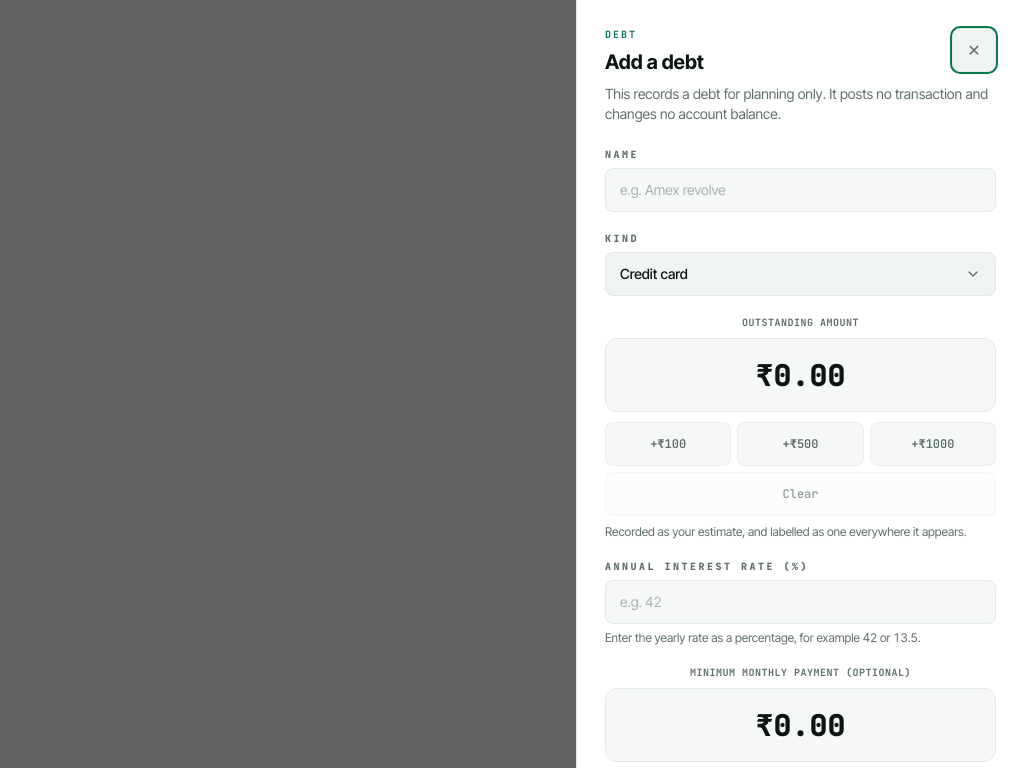
Test: DebtFormSheet › reports an invalid rate on the rate field
Type "Card" into the field labelled "Name".
click(800, 190); type("Card")  # box top-left (605, 168), bottom-right (996, 212)
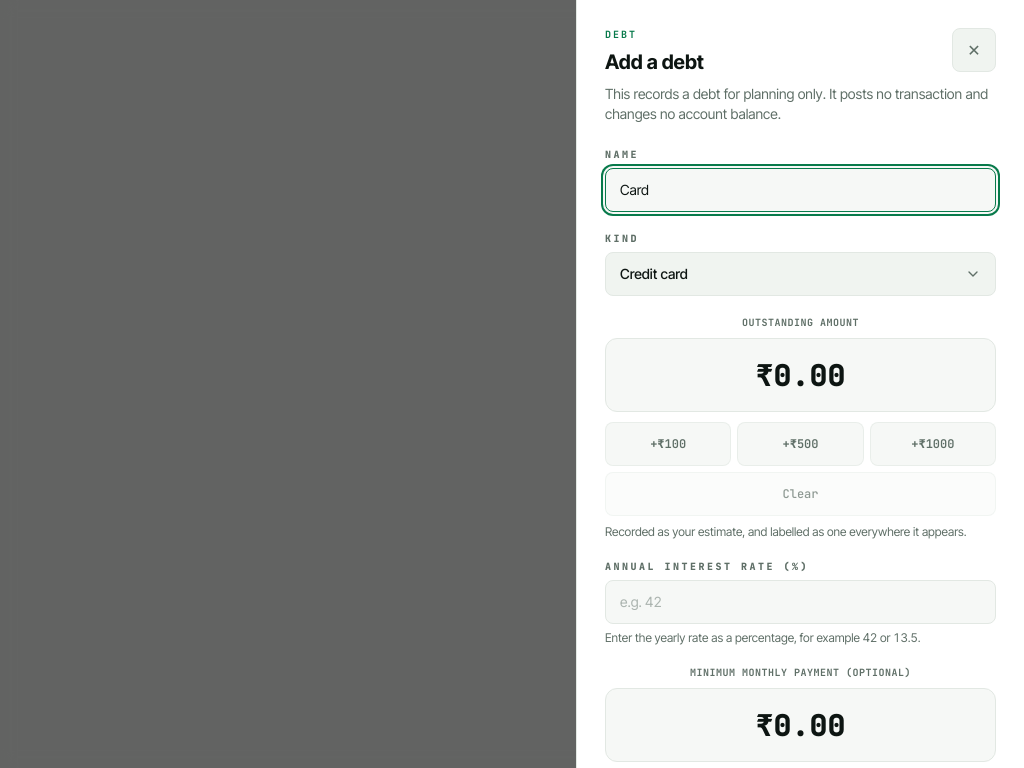
Type "abc" into the field labelled "Annual interest rate (%)".
click(800, 602); type("abc")  # box top-left (605, 580), bottom-right (996, 624)
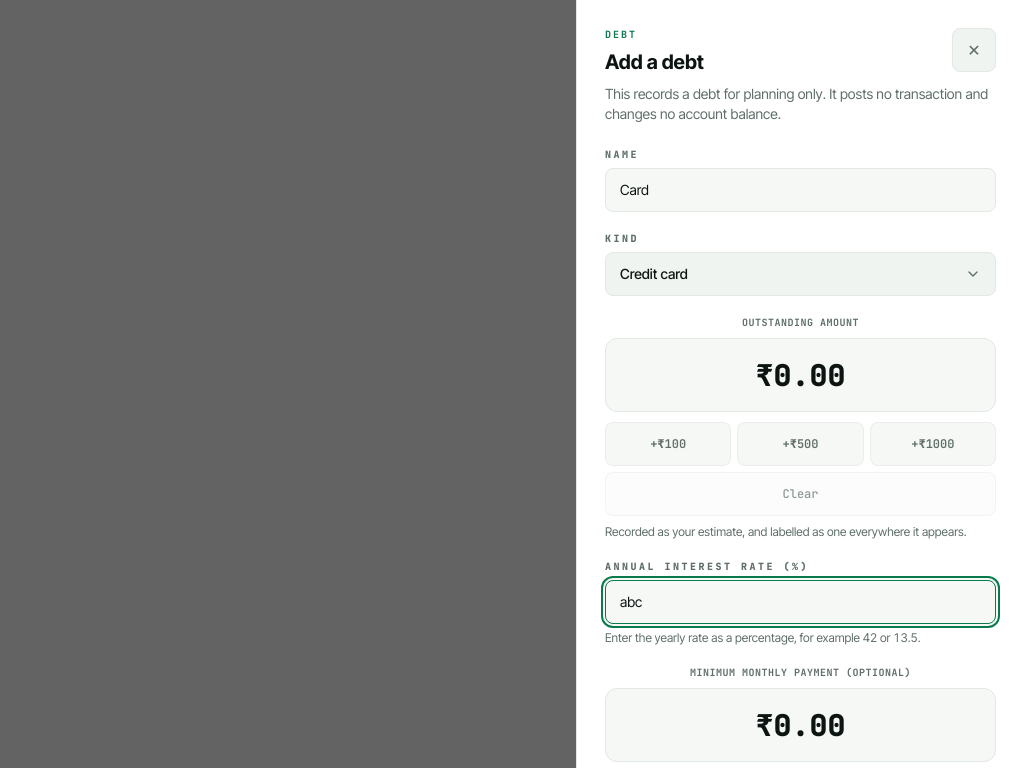
Replace the text in the field labelled "Outstanding amount" with "1000" at (800, 375), box top-left (605, 338), bottom-right (996, 412)
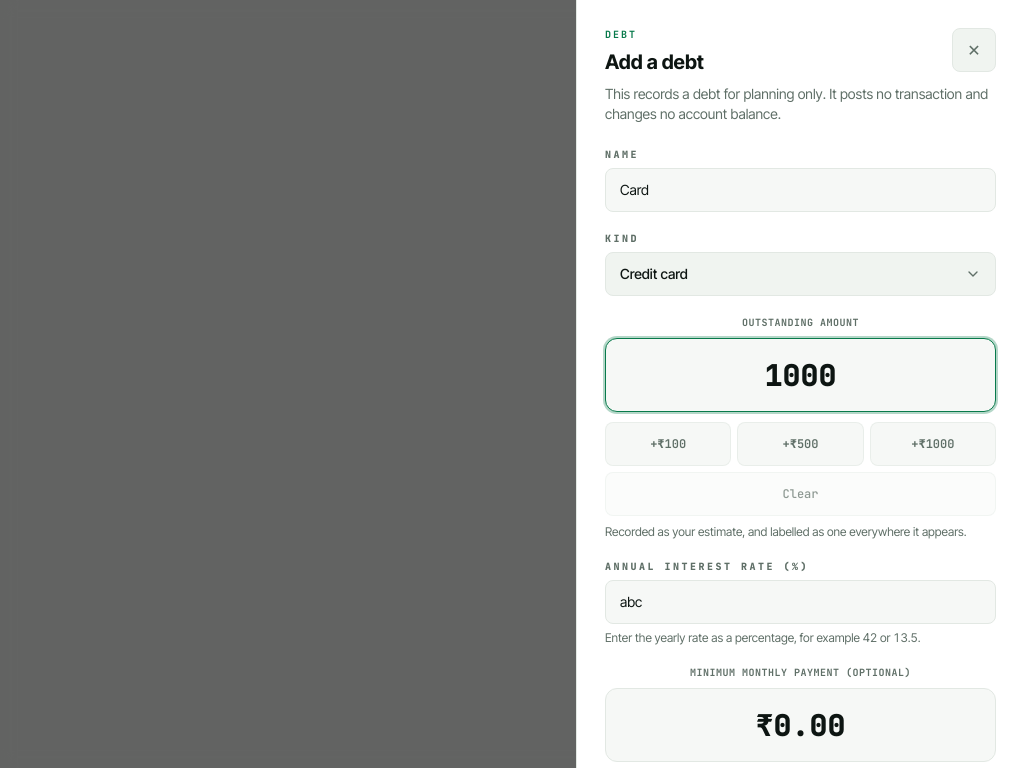
Press Tab
(page scrolled)
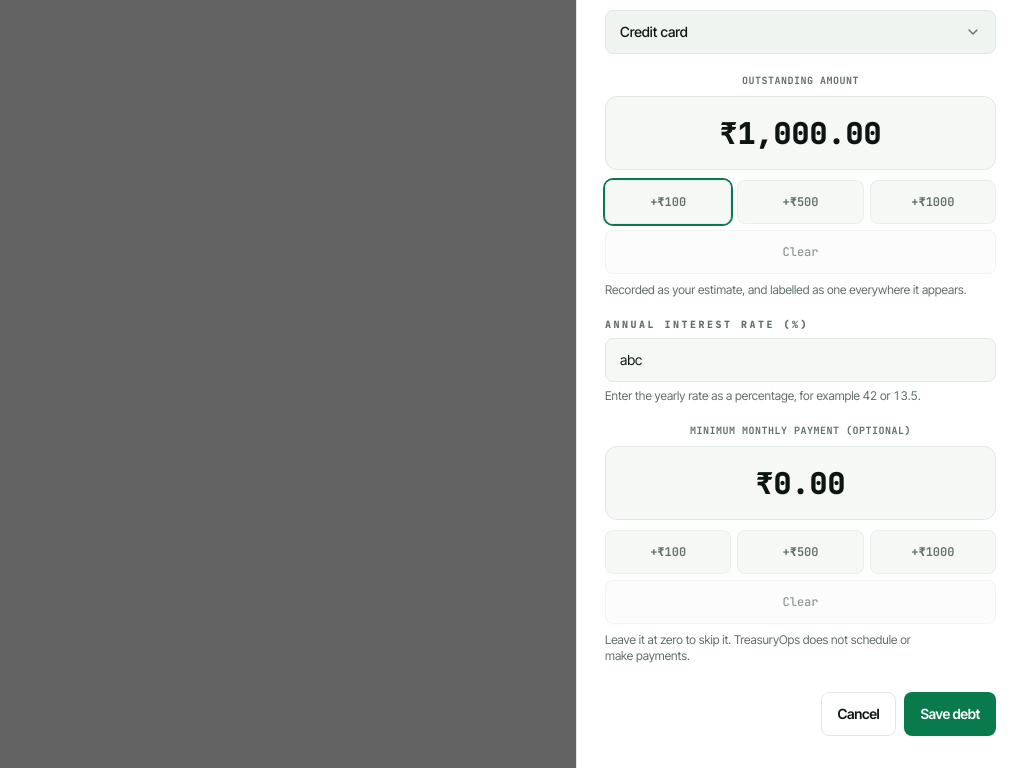
Click the button "Save debt".
click(950, 714)  # box top-left (904, 692), bottom-right (996, 736)
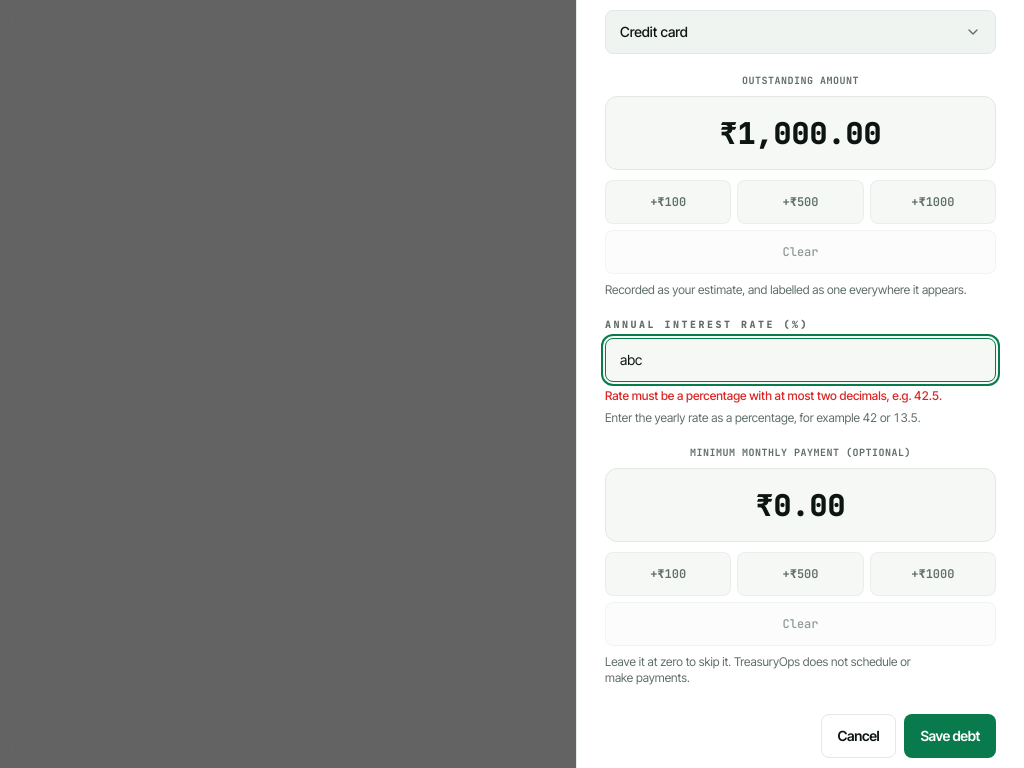
Expected: the text "Rate must be a percentage with at most two decimals, e.g. 42.5." is shown, top-left (605, 388), bottom-right (996, 404)
